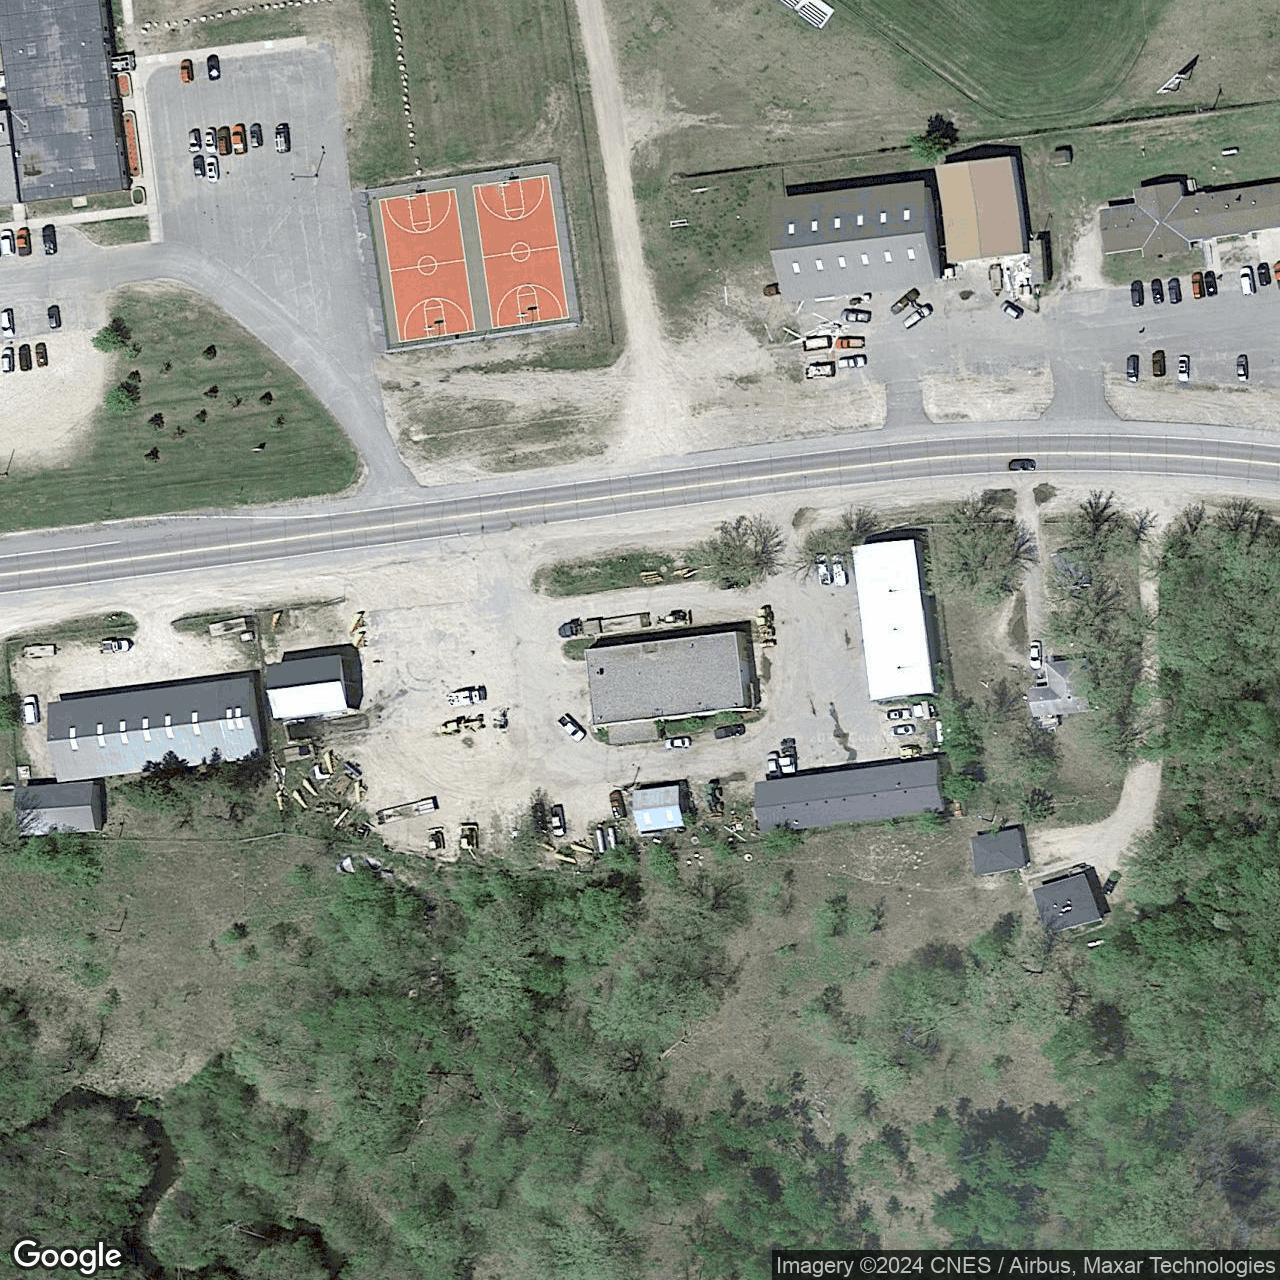Garage: (969, 826, 1033, 878)
House: (1097, 182, 1279, 259), (1028, 871, 1105, 937), (1027, 656, 1096, 719)
Other: (0, 0, 134, 206), (45, 676, 266, 785), (767, 178, 944, 306), (580, 631, 756, 748), (849, 538, 944, 704), (754, 757, 949, 837), (932, 156, 1030, 266), (263, 651, 352, 722), (12, 782, 105, 838), (628, 781, 689, 835)
Propane: (1085, 937, 1108, 951), (1218, 145, 1241, 157), (935, 719, 945, 745)
